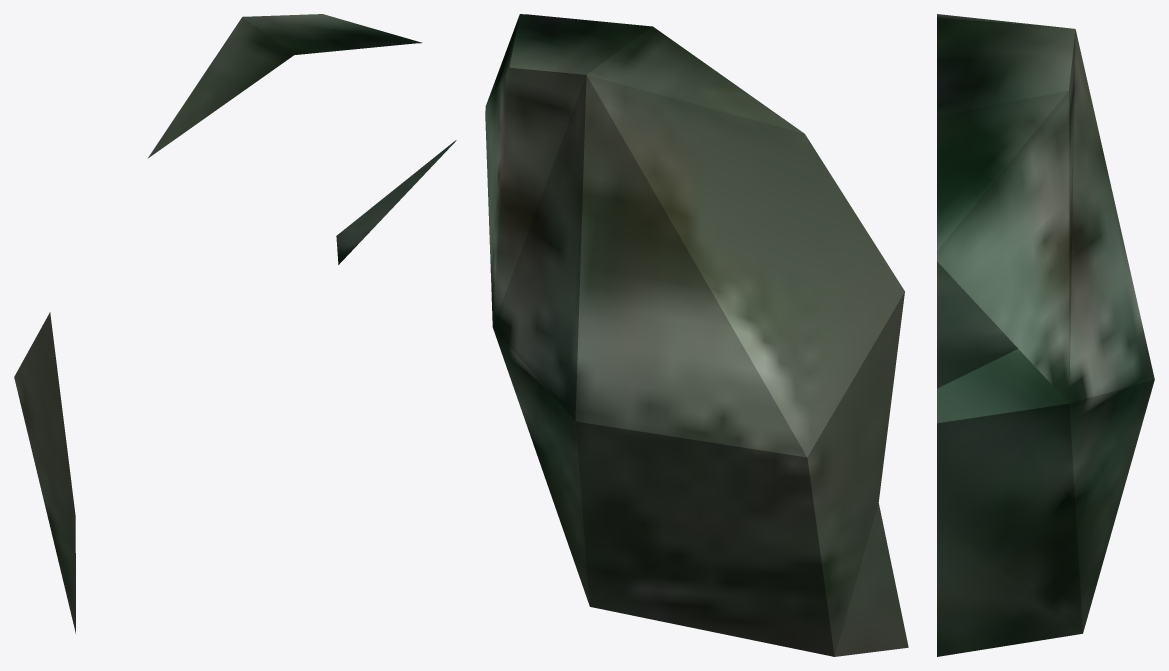
3 views of the same model, side by side, from view 1: azimuth 30°, elevation 25°; view 2: azimuth 150°, elevation 25°; view 3: azimuth 270°, elevation 25° (orthographic). The views are drawn at different scales.
Size of the model in its own units: 0.1955 by 0.2517 by 0.0756.
Materials: 1 (1 with a texture image).
